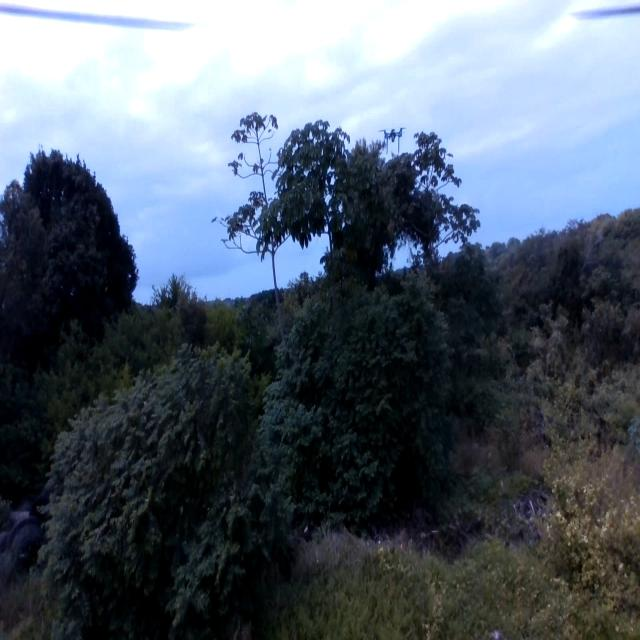-uav-: (378, 123, 406, 158)
